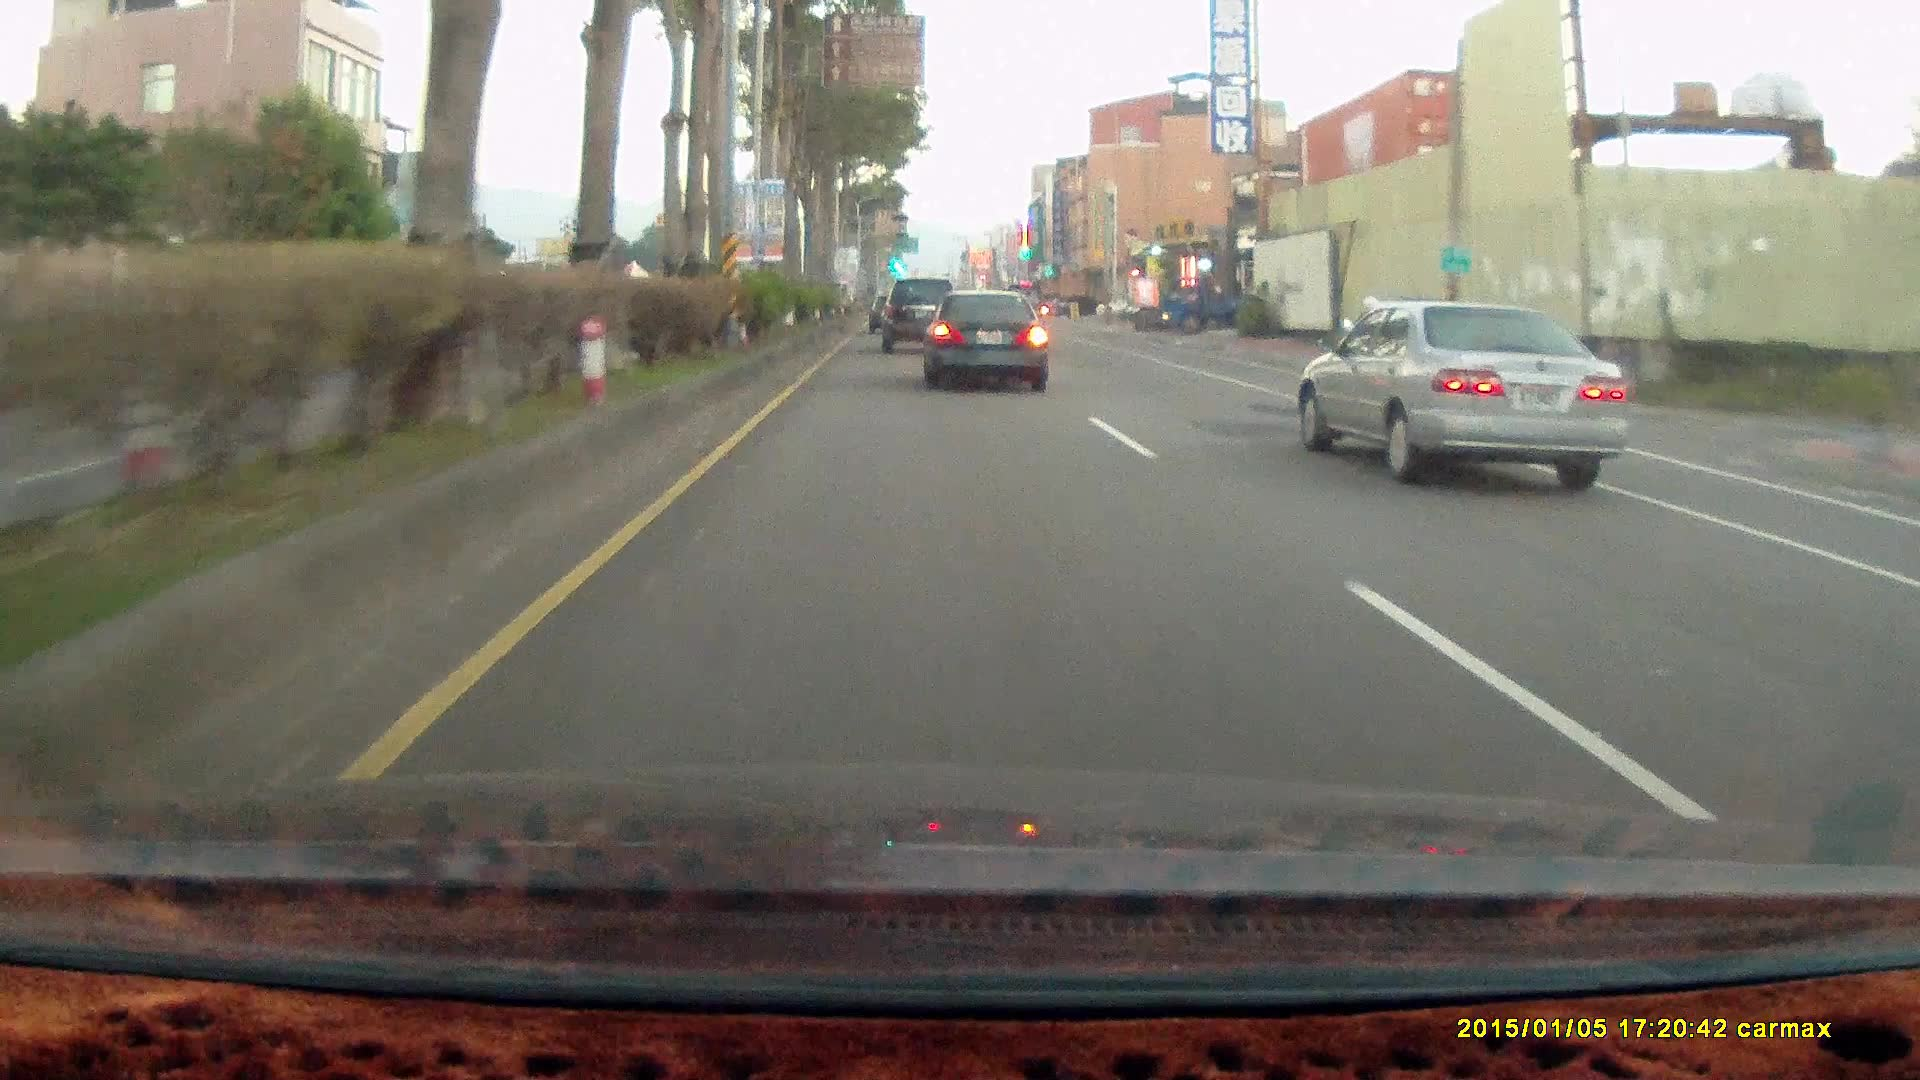vehicle: (1298, 297, 1630, 491), (1294, 298, 1634, 484), (916, 287, 1048, 390), (928, 291, 1056, 392), (1155, 272, 1254, 338), (1156, 272, 1255, 338), (880, 276, 960, 348), (880, 277, 960, 349), (1055, 294, 1098, 316)
